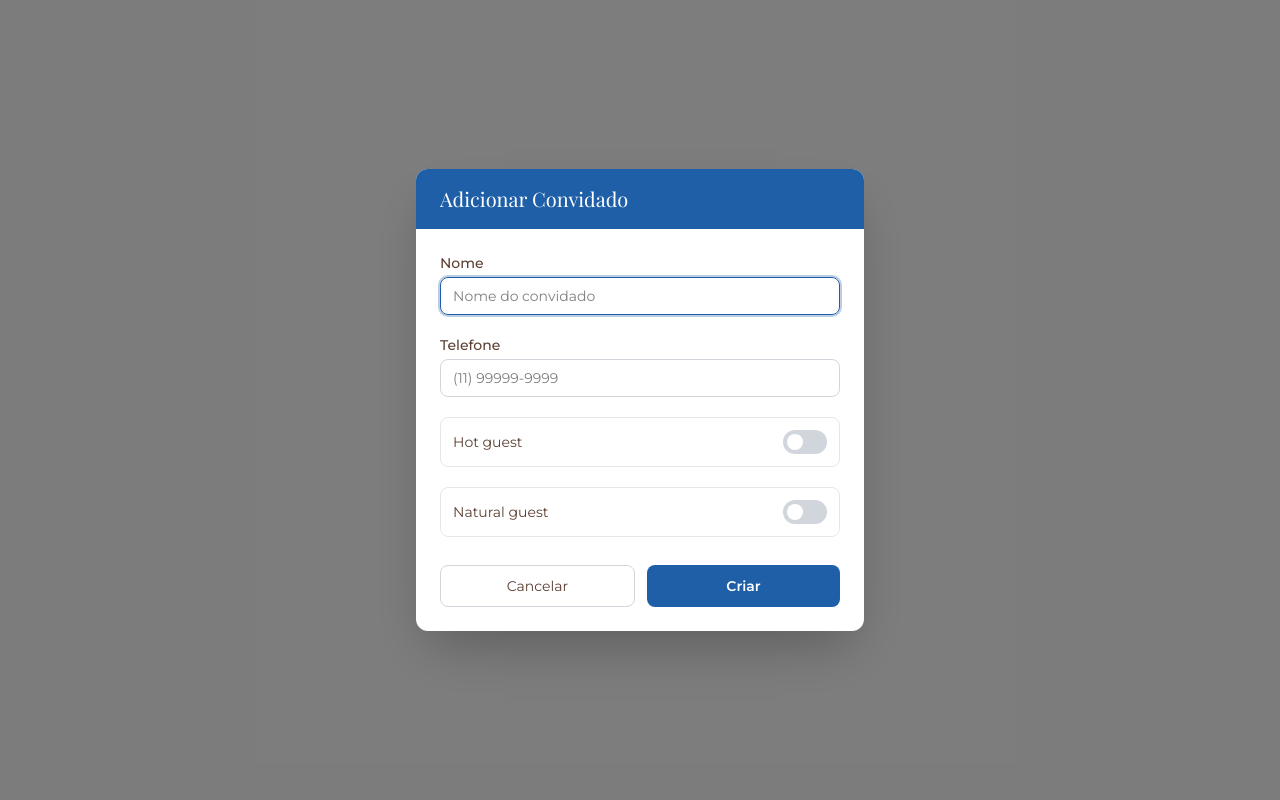
Test: CreateGuestDialog › should show validation error for empty name
This screenshot has width=1280, height=800.
Click the button "Criar".
click(744, 586)  # box [647, 565, 840, 607]
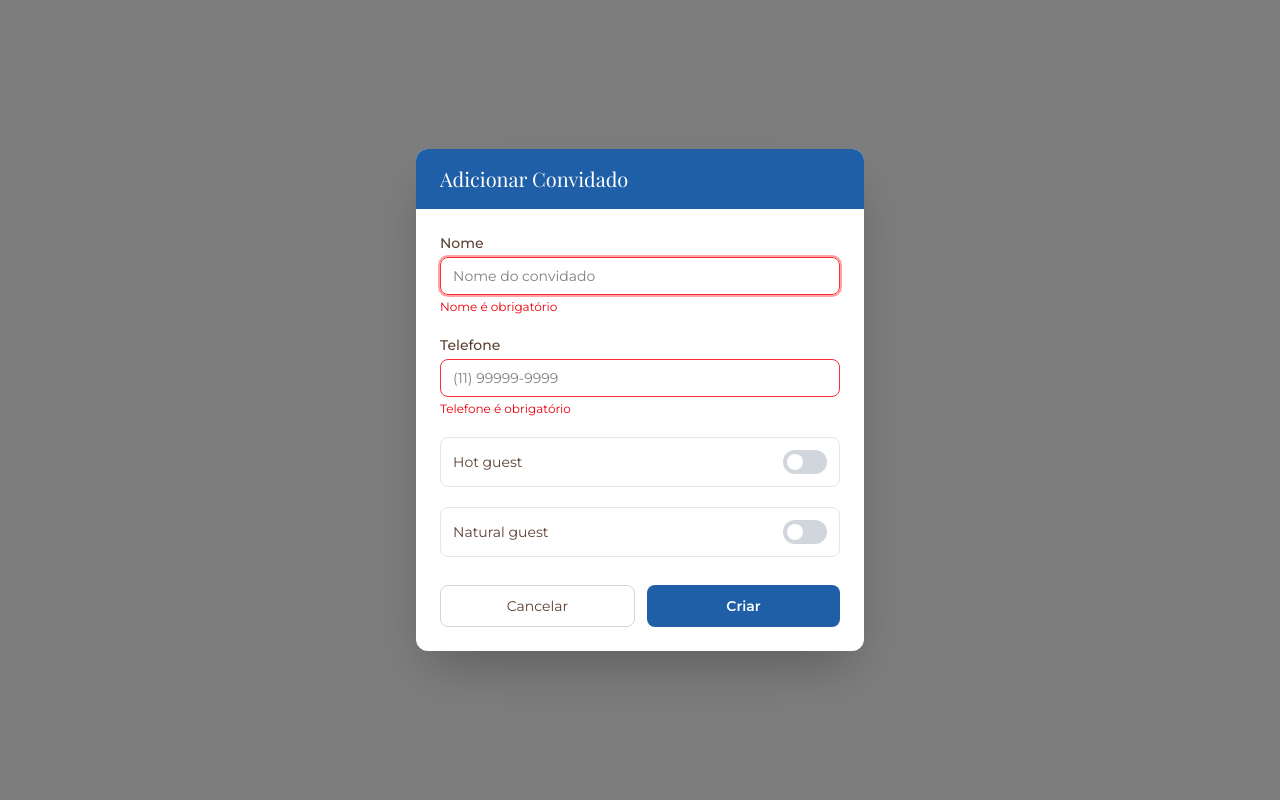
Expected: the text "Nome é obrigatório" is shown, [440, 299, 557, 314]
